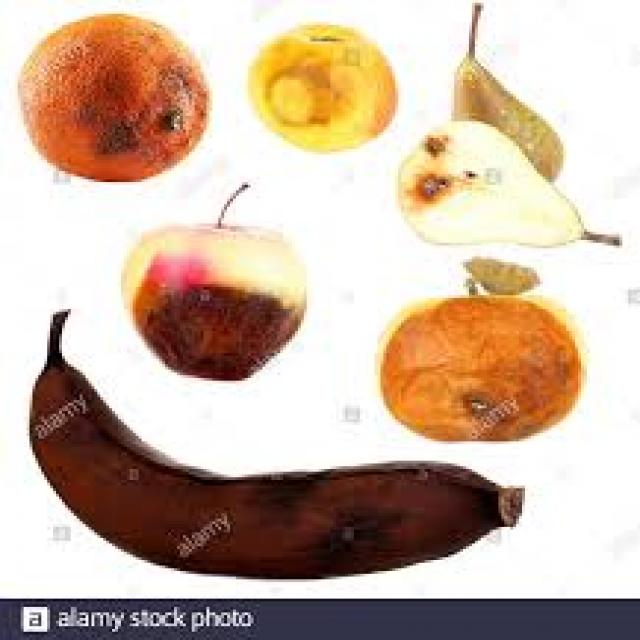organic waste: (30, 306, 519, 577), (121, 182, 301, 378), (15, 6, 209, 180), (375, 293, 581, 442), (392, 116, 620, 245), (442, 0, 564, 188), (248, 19, 395, 149), (463, 254, 537, 292)
